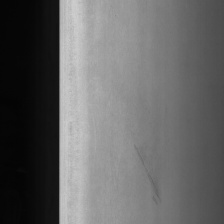water_spot: (132, 133, 166, 212)
